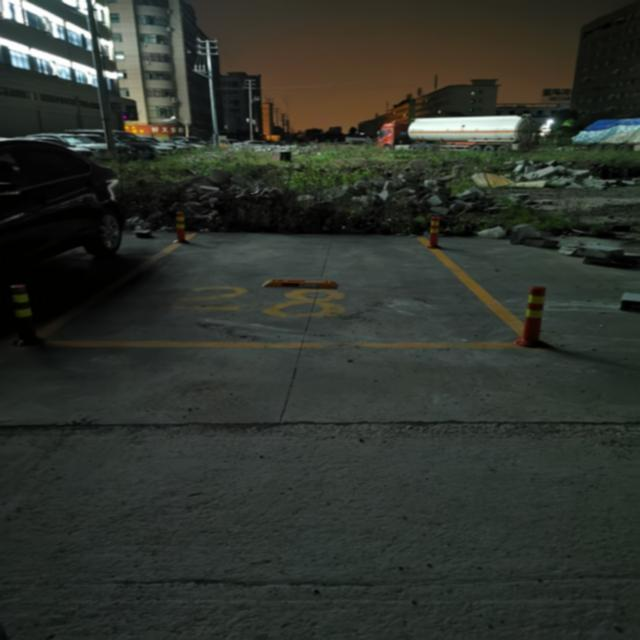car: (1, 137, 123, 271)
pole: (85, 1, 120, 160)
truck: (376, 114, 537, 152)
warning_column: (513, 284, 547, 348), (10, 283, 42, 346), (171, 211, 189, 244), (427, 216, 444, 248)
